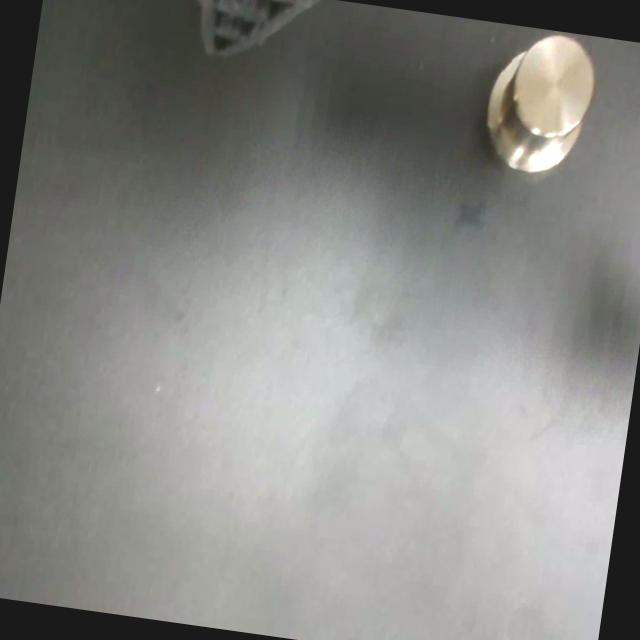sensor: (477, 27, 602, 182)
